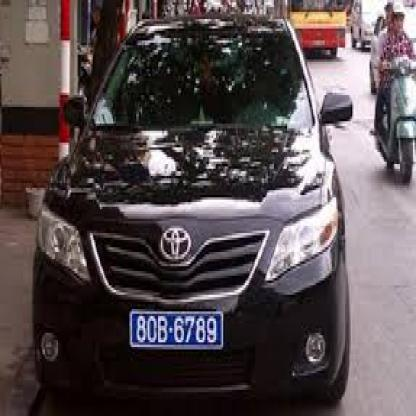biensoxe: (130, 308, 225, 350)
